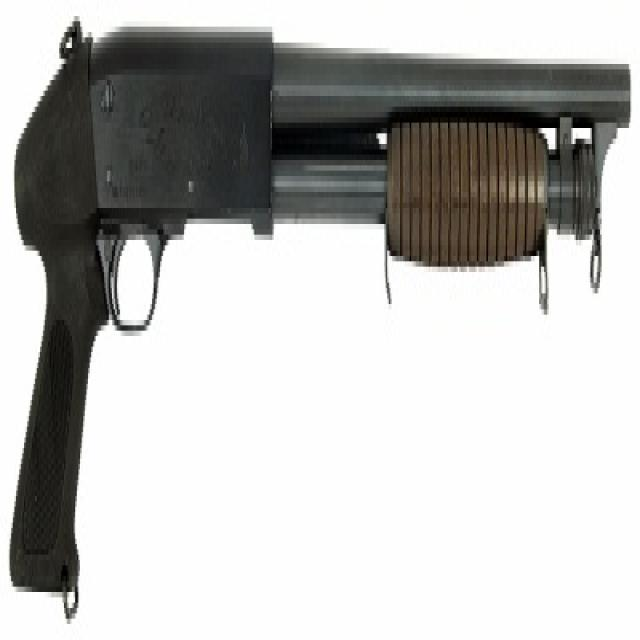rifle: (6, 1, 639, 620)
